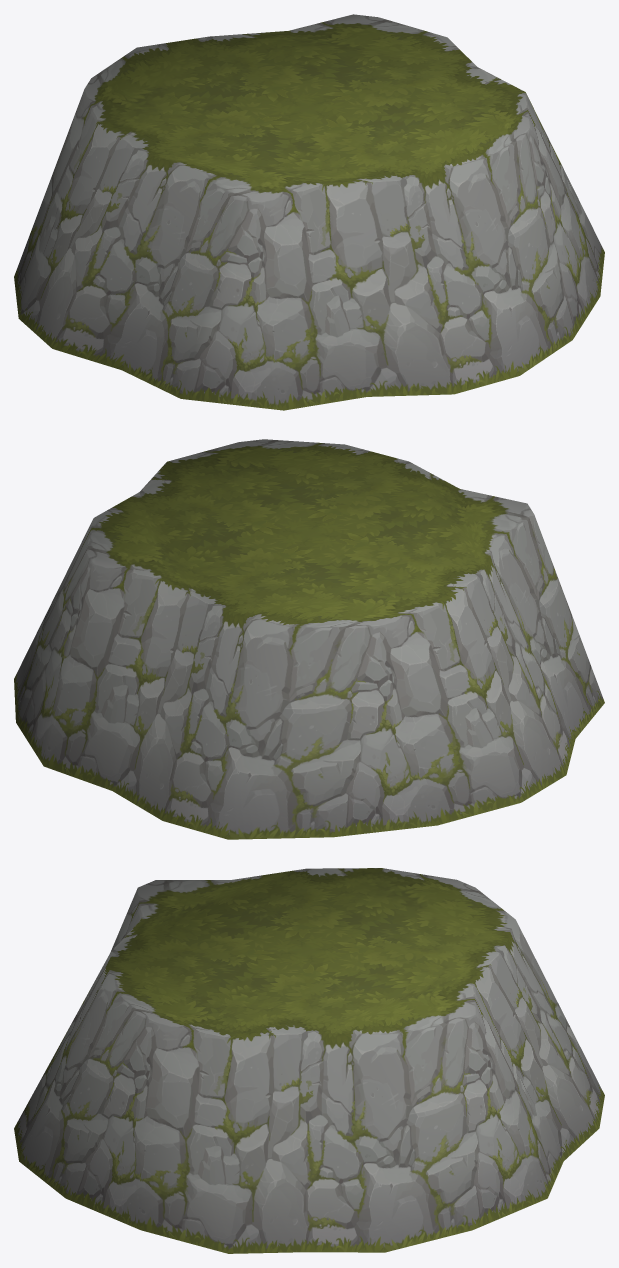
Rendered from Na_Cliff_02.FBX.
The picture shows the model from 3 angles, top to bottom: view 1: azimuth 30°, elevation 25°; view 2: azimuth 150°, elevation 25°; view 3: azimuth 270°, elevation 25°; orthographic projection.
Parts seen in each view (by area): view 1: Na_Cliff_02; view 2: Na_Cliff_02; view 3: Na_Cliff_02.
Boxes of the visible parts, left/top/right/bottom form: Na_Cliff_02: left=14, top=14, right=604, bottom=410; Na_Cliff_02: left=14, top=439, right=604, bottom=839; Na_Cliff_02: left=14, top=868, right=604, bottom=1253.
Bounding box in the file's own units: 15.08 × 5 × 15.11.
